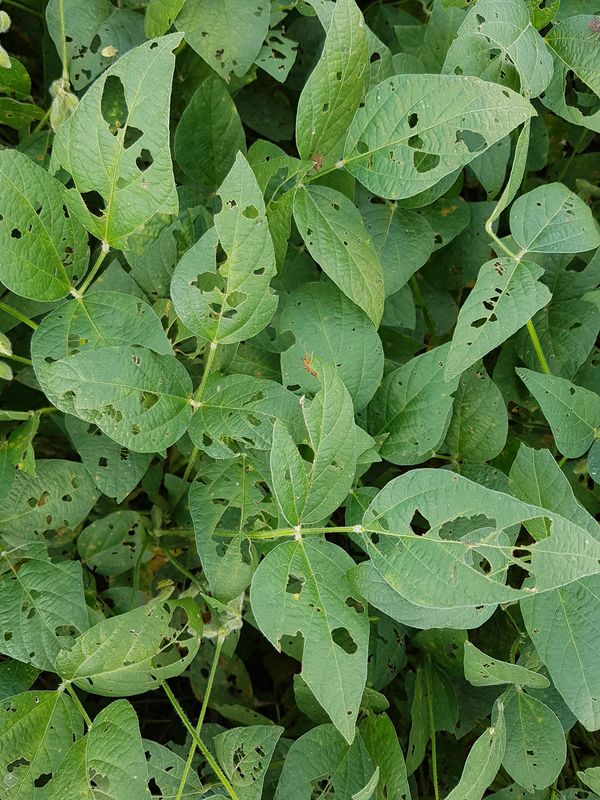Euschistus_heros_adulto: (296, 351, 324, 380), (307, 150, 332, 175)
Euschistus_heros_ninfa: (95, 41, 122, 62)
